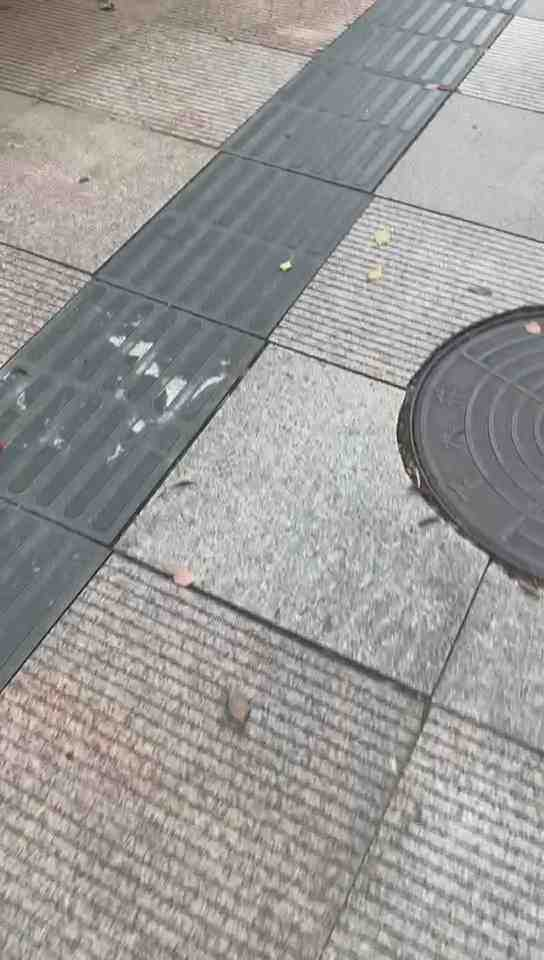leaf: (220, 682, 255, 729), (168, 562, 200, 591), (360, 257, 390, 281), (373, 225, 395, 247)
